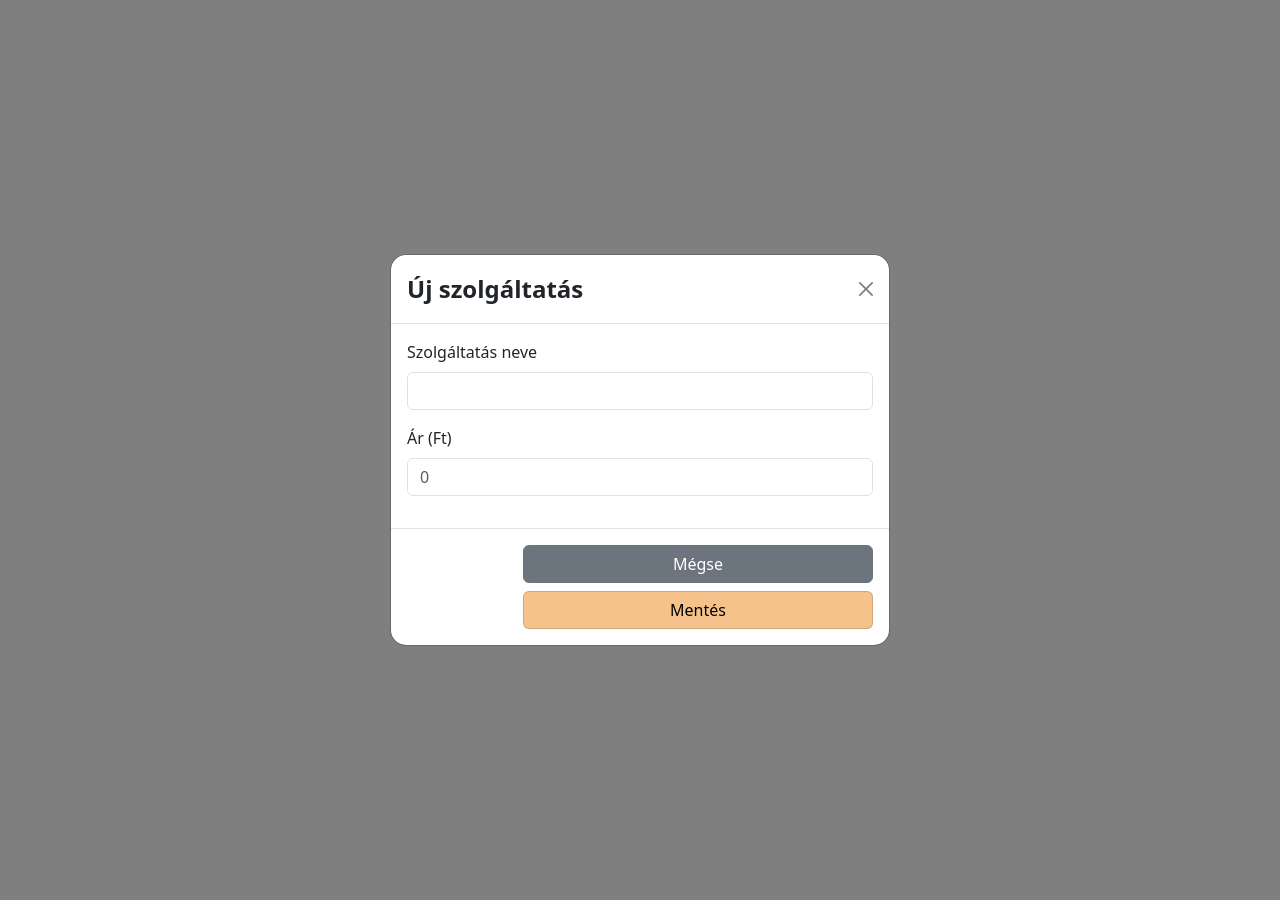
ServiceModal › loading állapot megjelenik
This screenshot has width=1280, height=900.
Type "Teszt" into the field labelled "Szolgáltatás neve" at (640, 391), box left=407, top=372, right=873, bottom=410
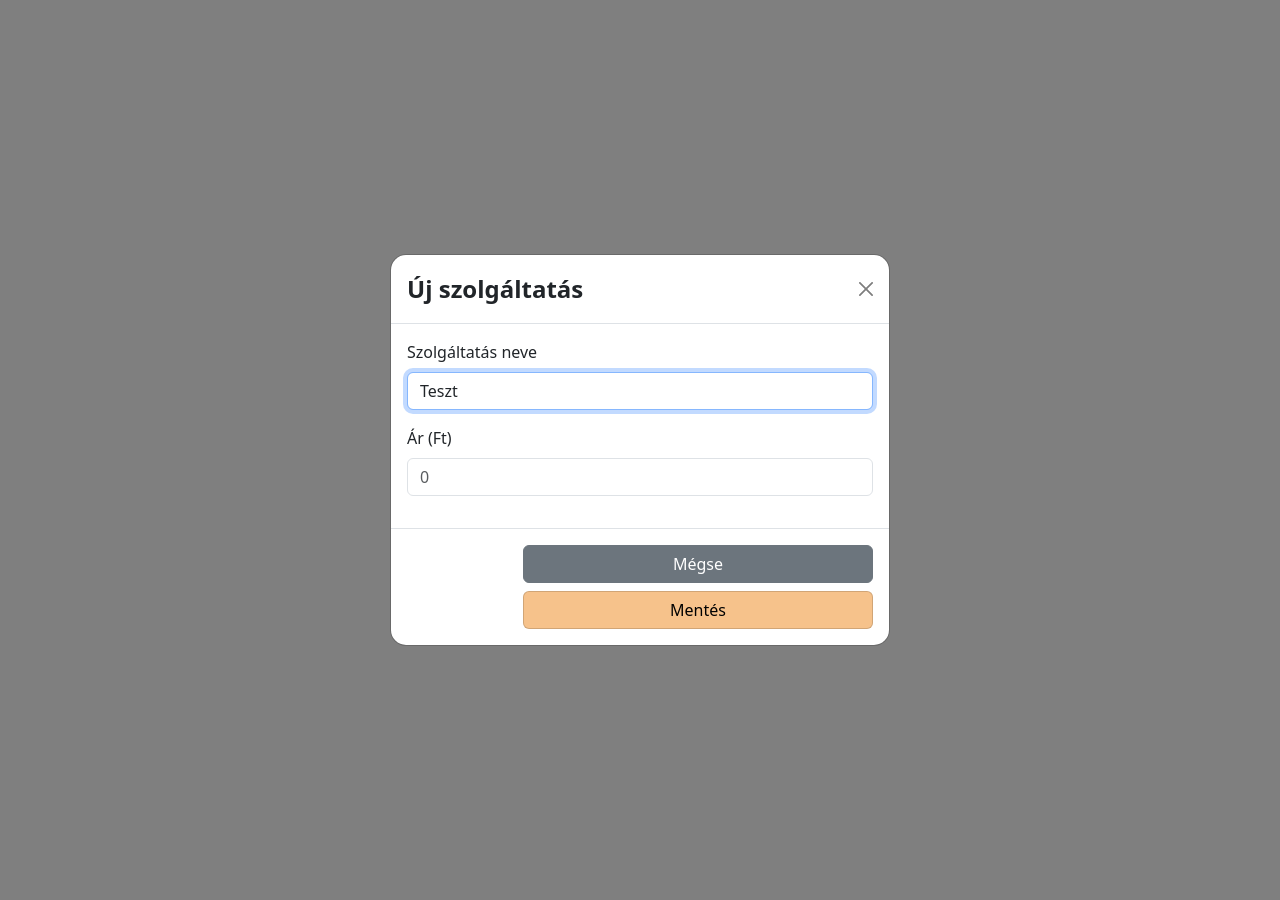
Type "1000" into the number field labelled "Ár (Ft)" at (640, 477), box left=407, top=458, right=873, bottom=496
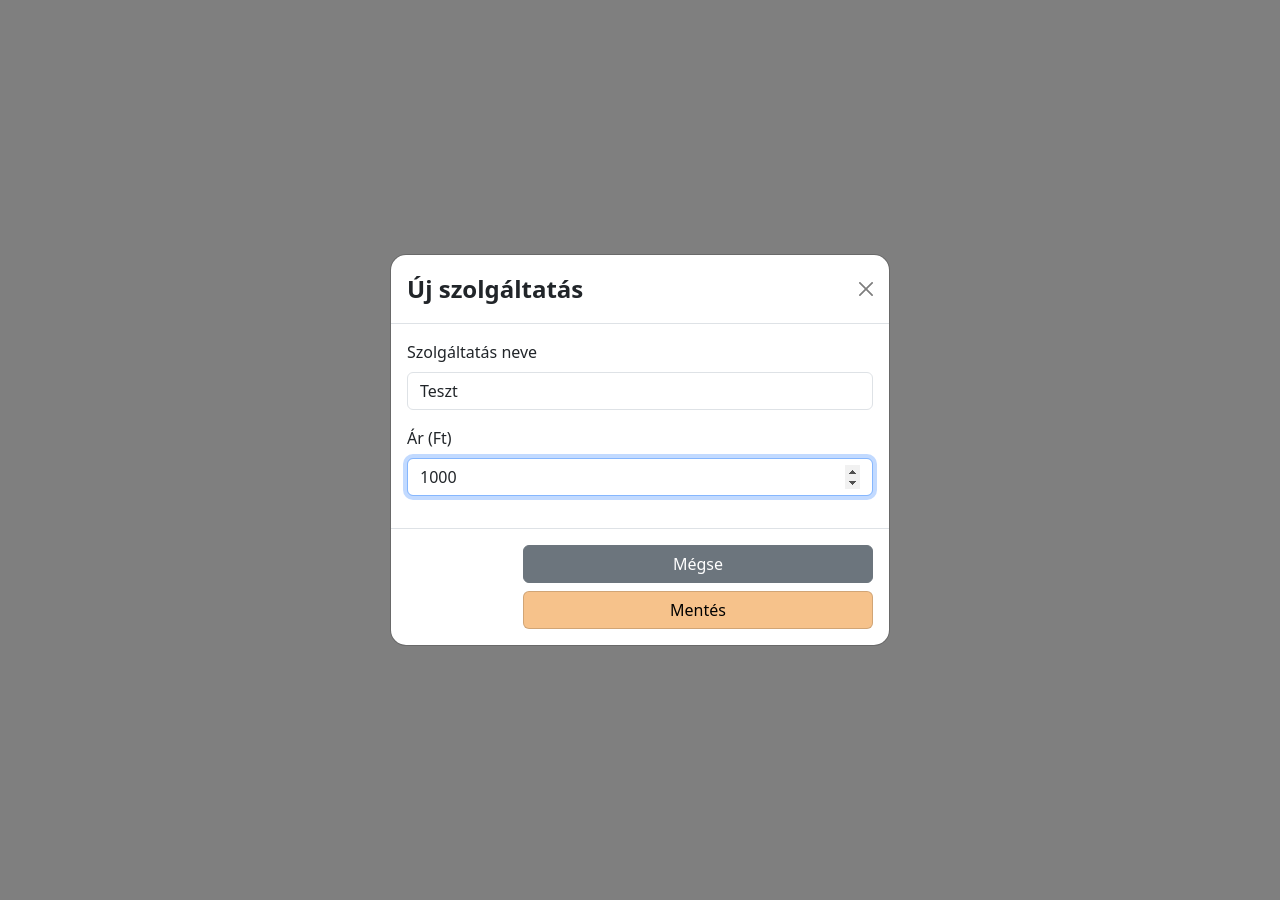
Click the button "Mentés" at (698, 610), box left=523, top=591, right=873, bottom=629
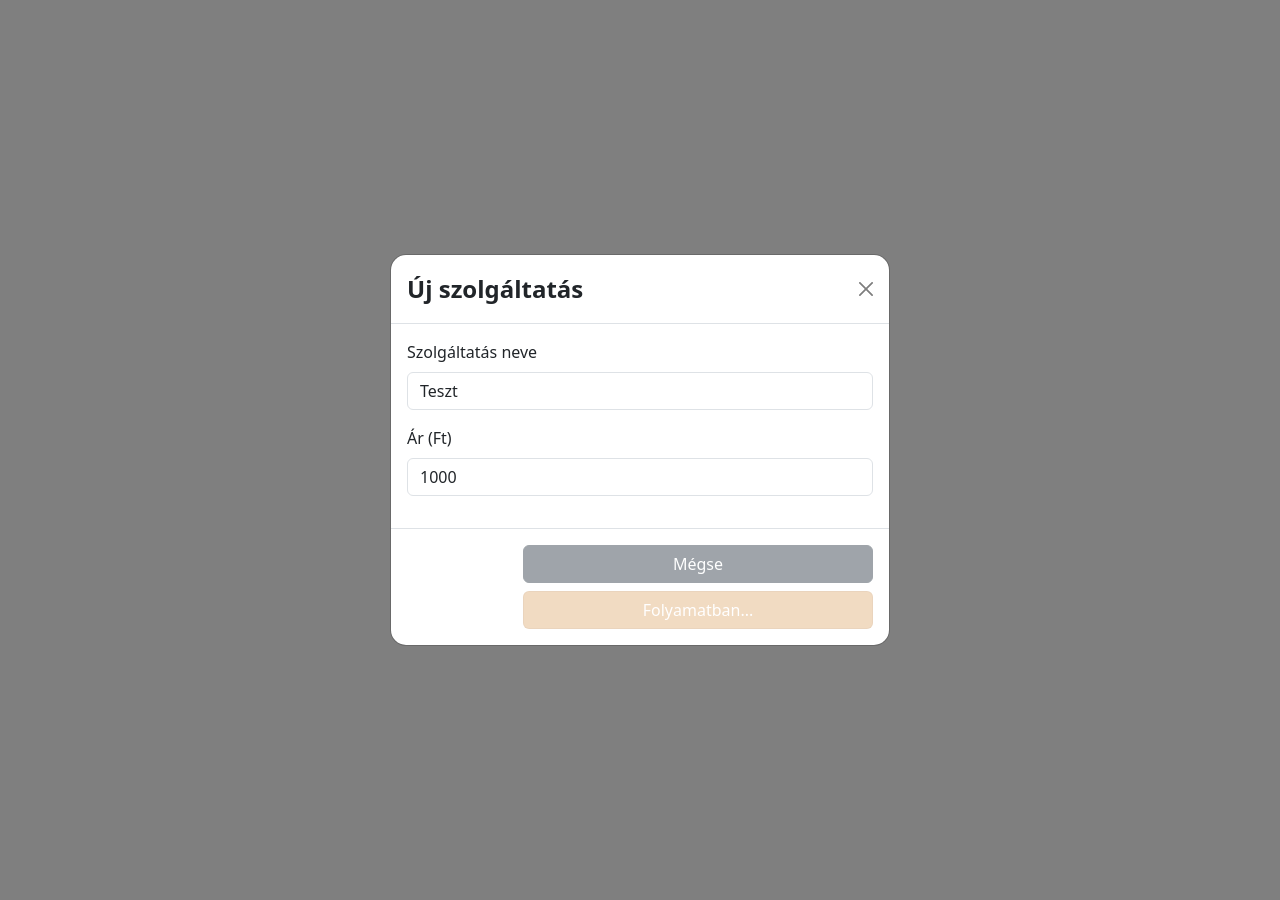
Now the button "Folyamatban..." is shown, box left=523, top=591, right=873, bottom=629
